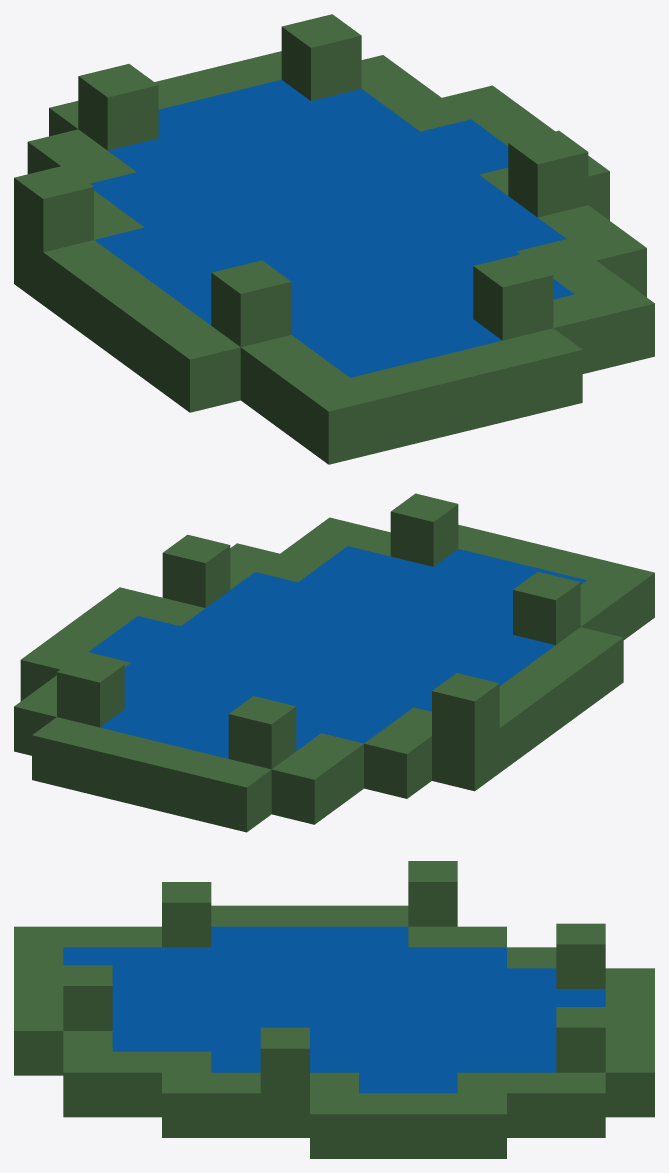
Rendered from overworld-18-props_lake.obj.
3 renders of one model, top to bottom at view 1: azimuth 30°, elevation 25°; view 2: azimuth 150°, elevation 25°; view 3: azimuth 270°, elevation 25°, orthographic. The views are drawn at different scales.
Parts seen in each view (by area): view 1: props_lake; view 2: props_lake; view 3: props_lake.
Part boxes in pixels (left/top/right/bottom): props_lake: left=14, top=14, right=654, bottom=464; props_lake: left=14, top=493, right=654, bottom=832; props_lake: left=14, top=861, right=654, bottom=1158.
Bounding box in the file's own units: 1 × 0.2 × 1.3.
1 material, 1 textured.
